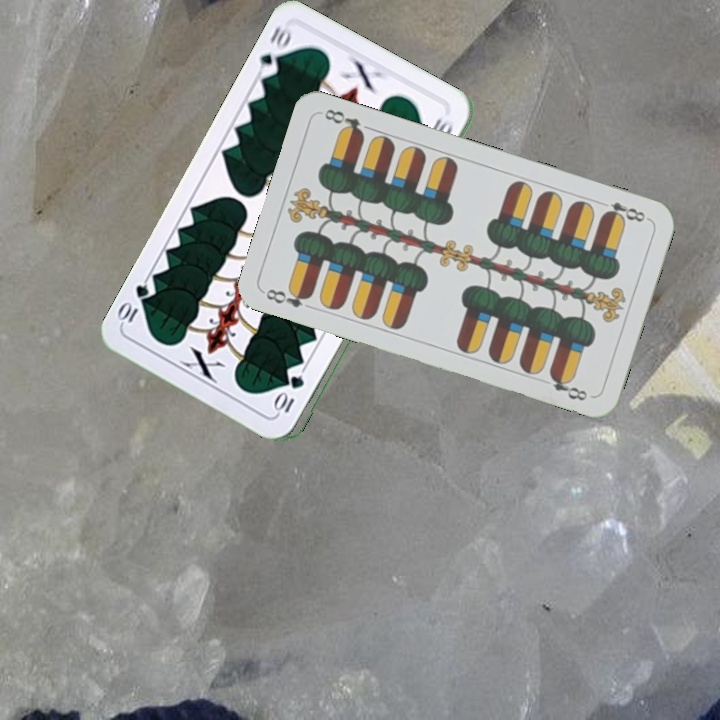E8: (261, 283, 314, 311), (599, 197, 651, 225)
G10: (254, 22, 294, 80), (273, 371, 307, 417)
